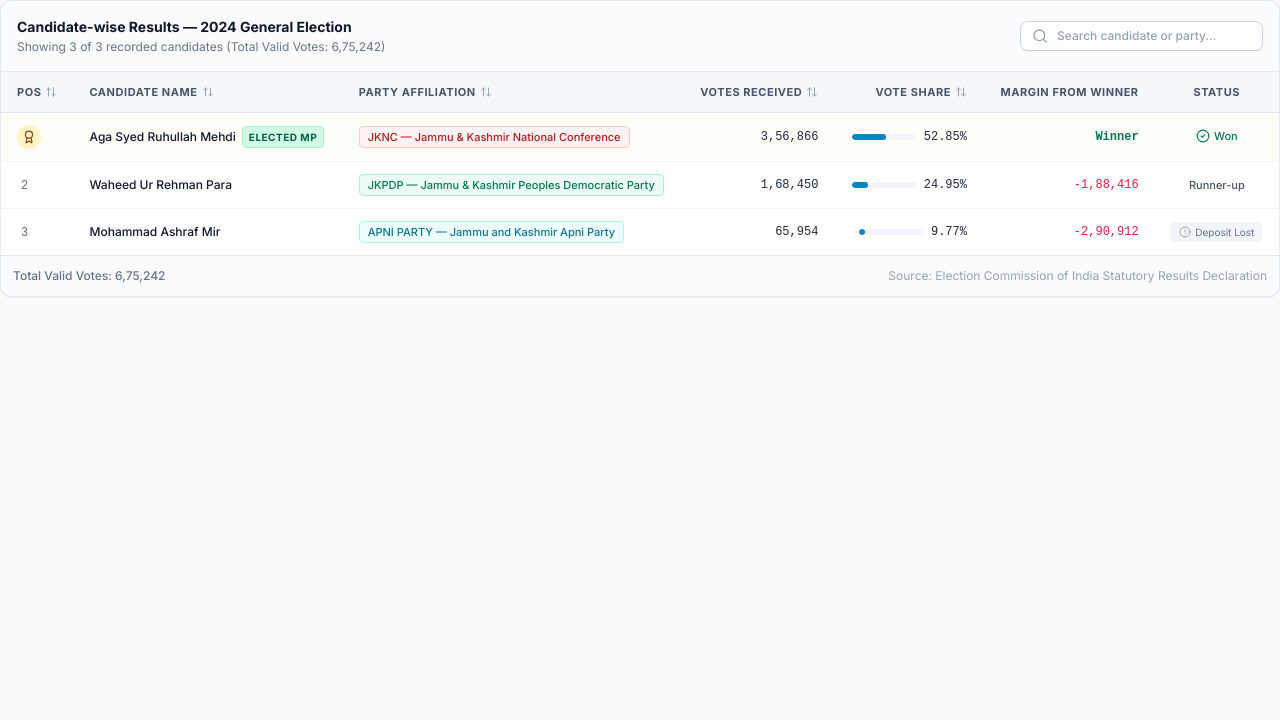
Test case: Component & Interaction Tests › ResultsTable › shows empty state when search matches no candidates
Type "Nonexistent Candidate" into the field with placeholder "Search candidate or party..." at (1142, 36), box 1020,21 -> 1263,51
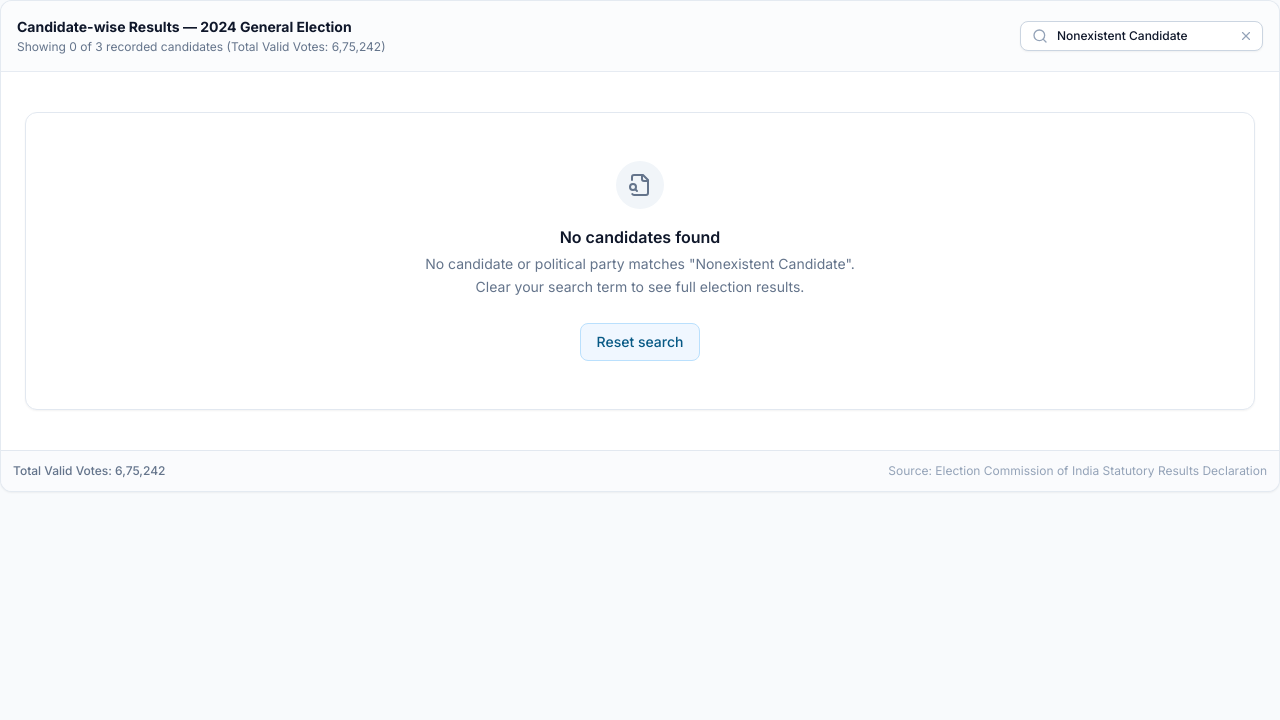
Expected: the heading "No candidates found" is shown, 560,225 -> 720,249
